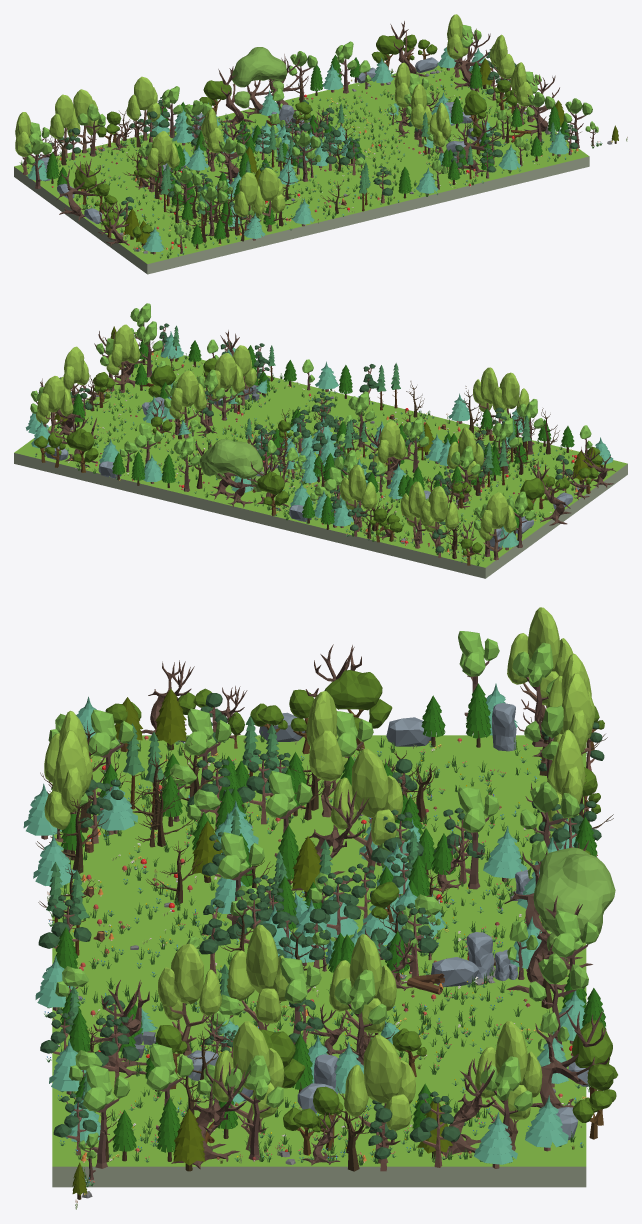
File: Level_4Mainworld.fbx
3 renders of one model, top to bottom at view 1: azimuth 30°, elevation 25°; view 2: azimuth 150°, elevation 25°; view 3: azimuth 270°, elevation 25°, orthographic. The views are drawn at different scales.
Parts seen in each view (by area): view 1: BG_Cube.018, Tree5_2.075, Tree1.038, Tree1.083, Tree1.045, Tree1.036, Tree1.082, Tree1.037, Tree1.044, Tree1.049, Tree1.043, Tree1.046 (+30 smaller); view 2: BG_Cube.018, Tree5_2.075, Tree1.033, Tree1.047, Tree1.044, Tree1.036, Tree1.038, Tree1.039, Tree1.049, Tree1.046, Tree1.037, Tree1.082 (+20 smaller); view 3: BG_Cube.018, Tree5_2.075, Tree1.043, Tree1.046, Tree1.049, Tree1.048, Tree1.039, Tree1.044, Tree1.047, Tree1.045, Tree1.083, Tree1.033 (+67 smaller).
Boxes of the visible parts, x1,y1,x2,y2 form: BG_Cube.018: (14, 63, 589, 274); Tree5_2.075: (232, 47, 287, 116); Tree1.038: (126, 76, 160, 140); Tree1.083: (251, 167, 285, 231); Tree1.045: (145, 131, 179, 194); Tree1.036: (49, 94, 80, 158); Tree1.082: (233, 172, 264, 226); Tree1.037: (66, 89, 100, 153); Tree1.044: (447, 14, 468, 77); Tree1.049: (410, 84, 431, 147); Tree1.043: (490, 34, 515, 97); Tree1.046: (201, 108, 223, 171); BG_Cube.018: (14, 349, 627, 578); Tree5_2.075: (199, 439, 262, 507); Tree1.033: (479, 492, 516, 560); Tree1.047: (169, 370, 206, 437); Tree1.044: (36, 376, 73, 433); Tree1.036: (420, 486, 458, 552); Tree1.038: (340, 464, 377, 531); Tree1.039: (106, 324, 140, 392); Tree1.049: (207, 352, 245, 420); Tree1.046: (373, 420, 406, 488); Tree1.037: (400, 481, 434, 548); Tree1.082: (492, 372, 529, 422); BG_Cube.018: (52, 735, 586, 1187); Tree5_2.075: (533, 847, 615, 969); Tree1.043: (344, 1034, 415, 1163); Tree1.046: (331, 748, 403, 874); Tree1.049: (226, 924, 288, 1030); Tree1.048: (158, 943, 221, 1055); Tree1.039: (212, 1021, 284, 1150); Tree1.044: (475, 1021, 542, 1150); Tree1.047: (329, 934, 396, 1049); Tree1.045: (306, 691, 347, 817); Tree1.083: (44, 730, 87, 859); Tree1.033: (507, 607, 572, 722).
Bounding box in the file's own units: 17041 × 2360 × 8686.
